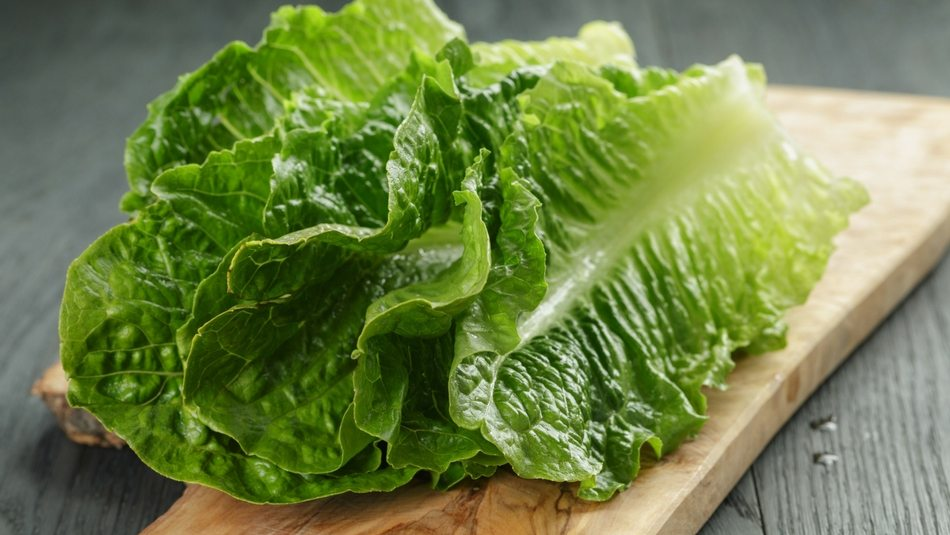chopped lettuce: (160, 60, 694, 436)
